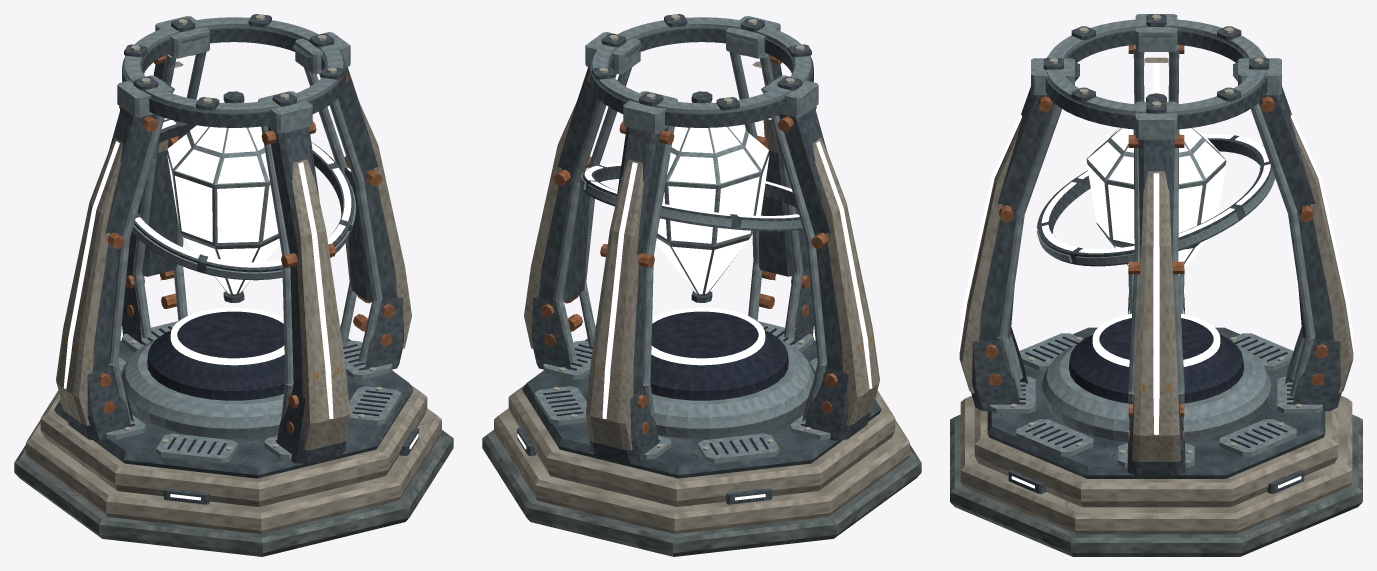
File: ap_nucleo.glb
3 views of the same model, side by side, from view 1: azimuth 30°, elevation 25°; view 2: azimuth 150°, elevation 25°; view 3: azimuth 270°, elevation 25° (orthographic).
Parts seen in each view (by area): view 1: estructura, nucleo, anillo; view 2: estructura, nucleo, anillo; view 3: estructura, nucleo, anillo.
Part boxes in pixels (x1,y1,x2,y2): estructura: (14, 14, 453, 556); nucleo: (167, 91, 279, 302); anillo: (132, 120, 355, 280); estructura: (482, 14, 921, 556); nucleo: (656, 91, 769, 302); anillo: (580, 163, 803, 231); estructura: (950, 14, 1362, 556); nucleo: (1086, 93, 1226, 275); anillo: (1036, 134, 1275, 266).
Bounding box in the file's own units: 4.43 × 4.87 × 4.43.
Materials: 2 (1 with a texture image).
